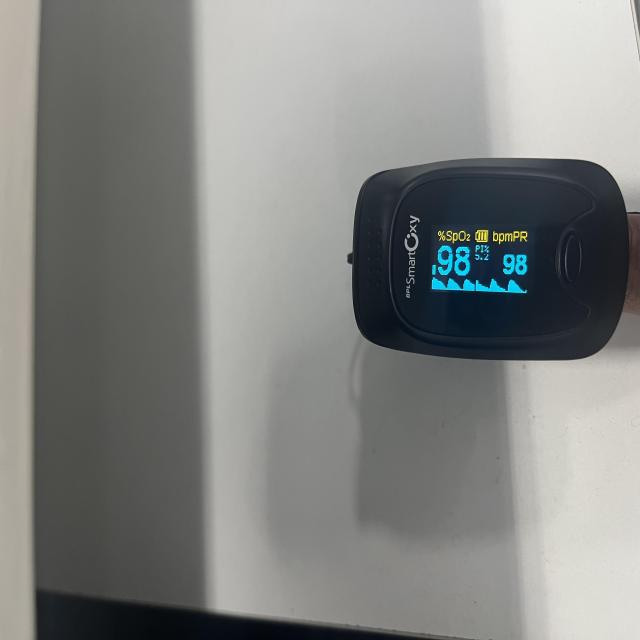spo2: (349, 158, 631, 363)
